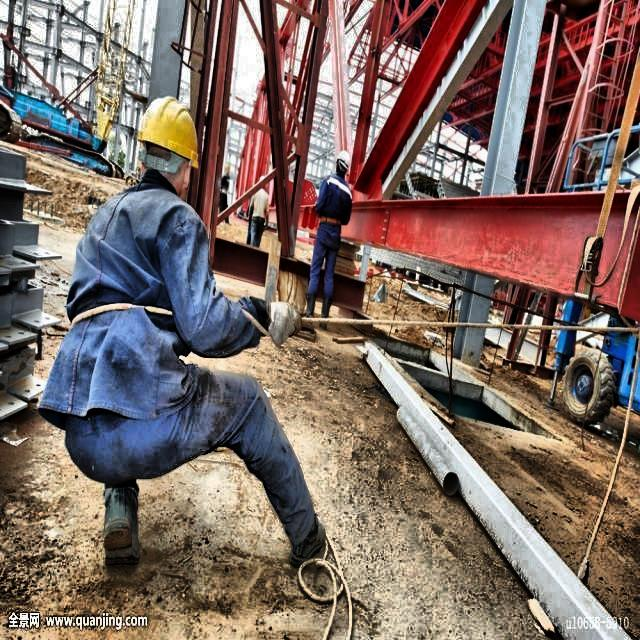person: (38, 94, 330, 578), (306, 149, 354, 336)
